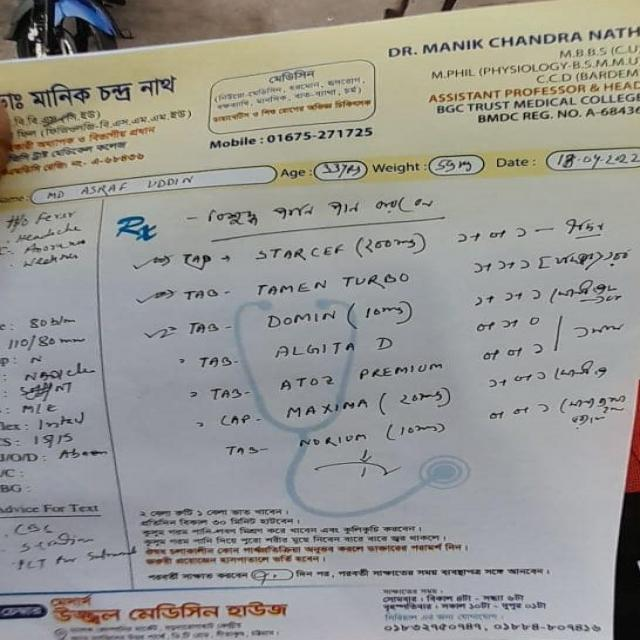A to Z: (271, 362, 447, 392)
Algita D: (264, 334, 411, 360)
Domin: (255, 309, 340, 329)
Maxima: (278, 394, 378, 422)
Norium: (286, 427, 376, 452)
Starcef: (247, 237, 353, 268)
Tamen Turbo: (244, 266, 413, 299)
